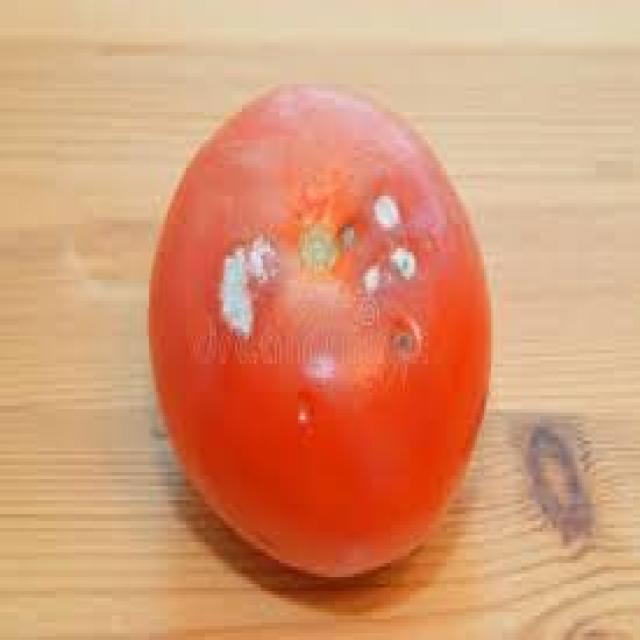overripe tomato: (151, 69, 502, 523)
